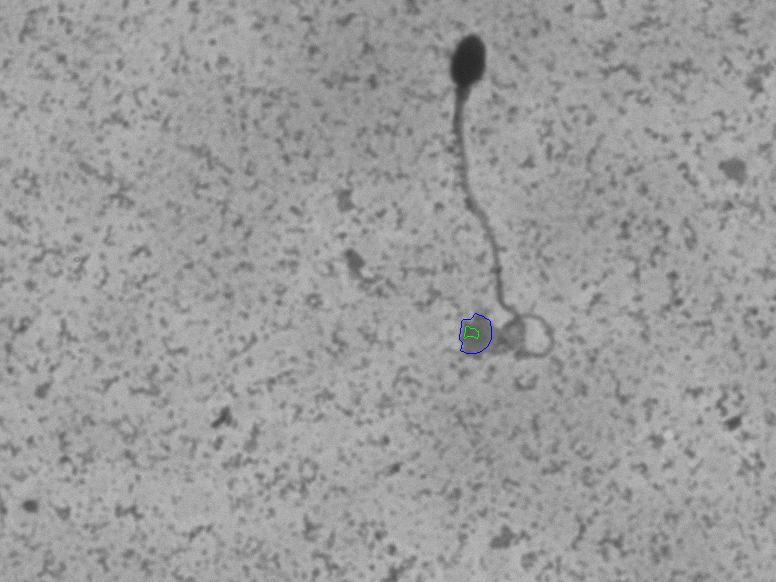Abnormal: (435, 23, 570, 370)
